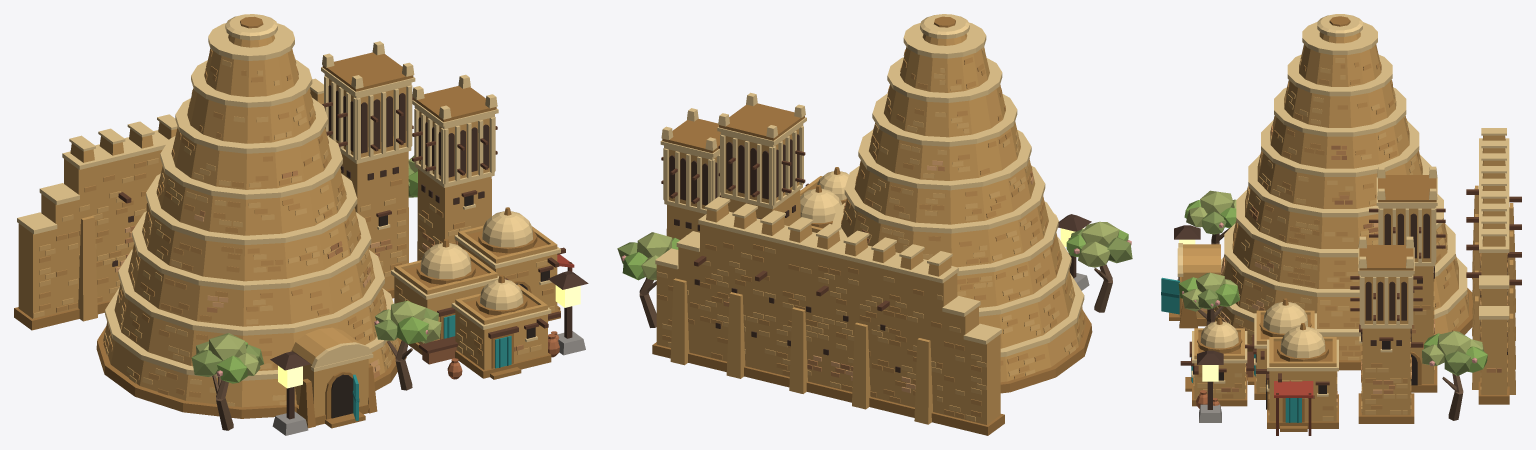
Rendered from windcatcher_town.glb.
3 renders of one model, left to right at view 1: azimuth 30°, elevation 25°; view 2: azimuth 150°, elevation 25°; view 3: azimuth 270°, elevation 25°, orthographic. The views are drawn at different scales.
Visible parts, largest first — view 1: windcatcher_town_WT_Mud, windcatcher_town_WT_MudLight, windcatcher_town_WT_MudShade, windcatcher_town_WT_MudBrickB, windcatcher_town_WT_MudBrickA, windcatcher_town_WT_SlotShade, windcatcher_town_WT_Palm2, windcatcher_town_WT_Wood, windcatcher_town_WT_LeafFreshLight, windcatcher_town_WarmMini_wooddark, windcatcher_town_WT_Palm1, windcatcher_town_WT_Branch (+6 smaller); view 2: windcatcher_town_WT_Mud, windcatcher_town_WT_MudLight, windcatcher_town_WT_MudBrickB, windcatcher_town_WT_MudShade, windcatcher_town_WT_MudBrickA, windcatcher_town_WT_SlotShade, windcatcher_town_WT_Palm2, windcatcher_town_WT_Branch, windcatcher_town_WT_LeafFreshLight, windcatcher_town_WT_Wood, windcatcher_town_WT_Palm1, windcatcher_town_WarmMini_wooddark; view 3: windcatcher_town_WT_Mud, windcatcher_town_WT_MudLight, windcatcher_town_WT_MudShade, windcatcher_town_WT_MudBrickB, windcatcher_town_WT_MudBrickA, windcatcher_town_WT_Palm2, windcatcher_town_WT_Wood, windcatcher_town_WT_SlotShade, windcatcher_town_WT_LeafFreshLight, windcatcher_town_WT_Palm1, windcatcher_town_WT_Turquoise, windcatcher_town_WarmMini_wooddark (+7 smaller).
Part boxes in pixels (<box>): windcatcher_town_WT_Mud: <box>18,35,557,416</box>; windcatcher_town_WT_MudLight: <box>17,14,560,380</box>; windcatcher_town_WT_MudShade: <box>14,16,560,428</box>; windcatcher_town_WT_MudBrickB: <box>33,54,554,406</box>; windcatcher_town_WT_MudBrickA: <box>39,49,553,399</box>; windcatcher_town_WT_SlotShade: <box>112,85,489,266</box>; windcatcher_town_WT_Palm2: <box>196,155,441,375</box>; windcatcher_town_WT_Wood: <box>118,96,565,353</box>; windcatcher_town_WT_LeafFreshLight: <box>217,171,428,383</box>; windcatcher_town_WarmMini_wooddark: <box>270,271,588,419</box>; windcatcher_town_WT_Palm1: <box>191,168,438,376</box>; windcatcher_town_WT_Branch: <box>212,340,412,430</box>; windcatcher_town_WT_Mud: <box>656,33,1085,424</box>; windcatcher_town_WT_MudLight: <box>655,14,1084,356</box>; windcatcher_town_WT_MudBrickB: <box>657,47,1082,421</box>; windcatcher_town_WT_MudShade: <box>652,16,1092,435</box>; windcatcher_town_WT_MudBrickA: <box>657,49,1085,418</box>; windcatcher_town_WT_SlotShade: <box>669,134,900,372</box>; windcatcher_town_WT_Palm2: <box>637,221,1119,280</box>; windcatcher_town_WT_Branch: <box>639,264,1112,327</box>; windcatcher_town_WT_LeafFreshLight: <box>622,229,1128,280</box>; windcatcher_town_WT_Wood: <box>661,145,889,311</box>; windcatcher_town_WT_Palm1: <box>617,229,1132,263</box>; windcatcher_town_WarmMini_wooddark: <box>1058,214,1091,278</box>; windcatcher_town_WT_Mud: <box>1181,32,1515,421</box>; windcatcher_town_WT_MudLight: <box>1177,14,1509,396</box>; windcatcher_town_WT_MudShade: <box>1169,16,1509,431</box>; windcatcher_town_WT_MudBrickB: <box>1193,58,1507,420</box>; windcatcher_town_WT_MudBrickA: <box>1197,62,1507,410</box>; windcatcher_town_WT_Palm2: <box>1182,190,1484,366</box>; windcatcher_town_WT_Wood: <box>1180,189,1521,385</box>; windcatcher_town_WT_SlotShade: <box>1361,213,1507,354</box>; windcatcher_town_WT_LeafFreshLight: <box>1178,200,1487,372</box>; windcatcher_town_WT_Palm1: <box>1197,211,1470,375</box>; windcatcher_town_WT_Turquoise: <box>1161,277,1301,422</box>; windcatcher_town_WarmMini_wooddark: <box>1174,225,1223,409</box>.
Bounding box in the file's own units: 3.76 × 2.8 × 3.12.
